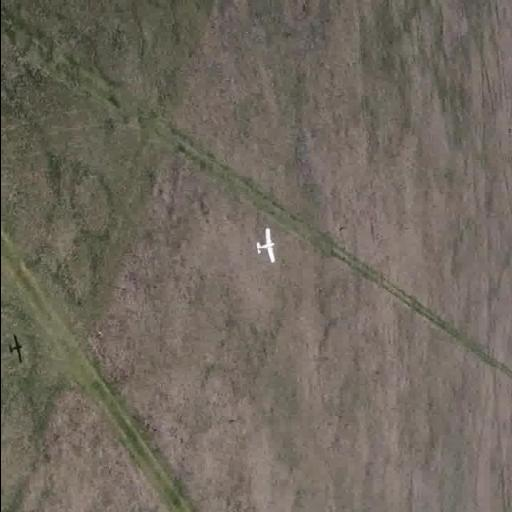uav: (248, 228, 278, 266)
